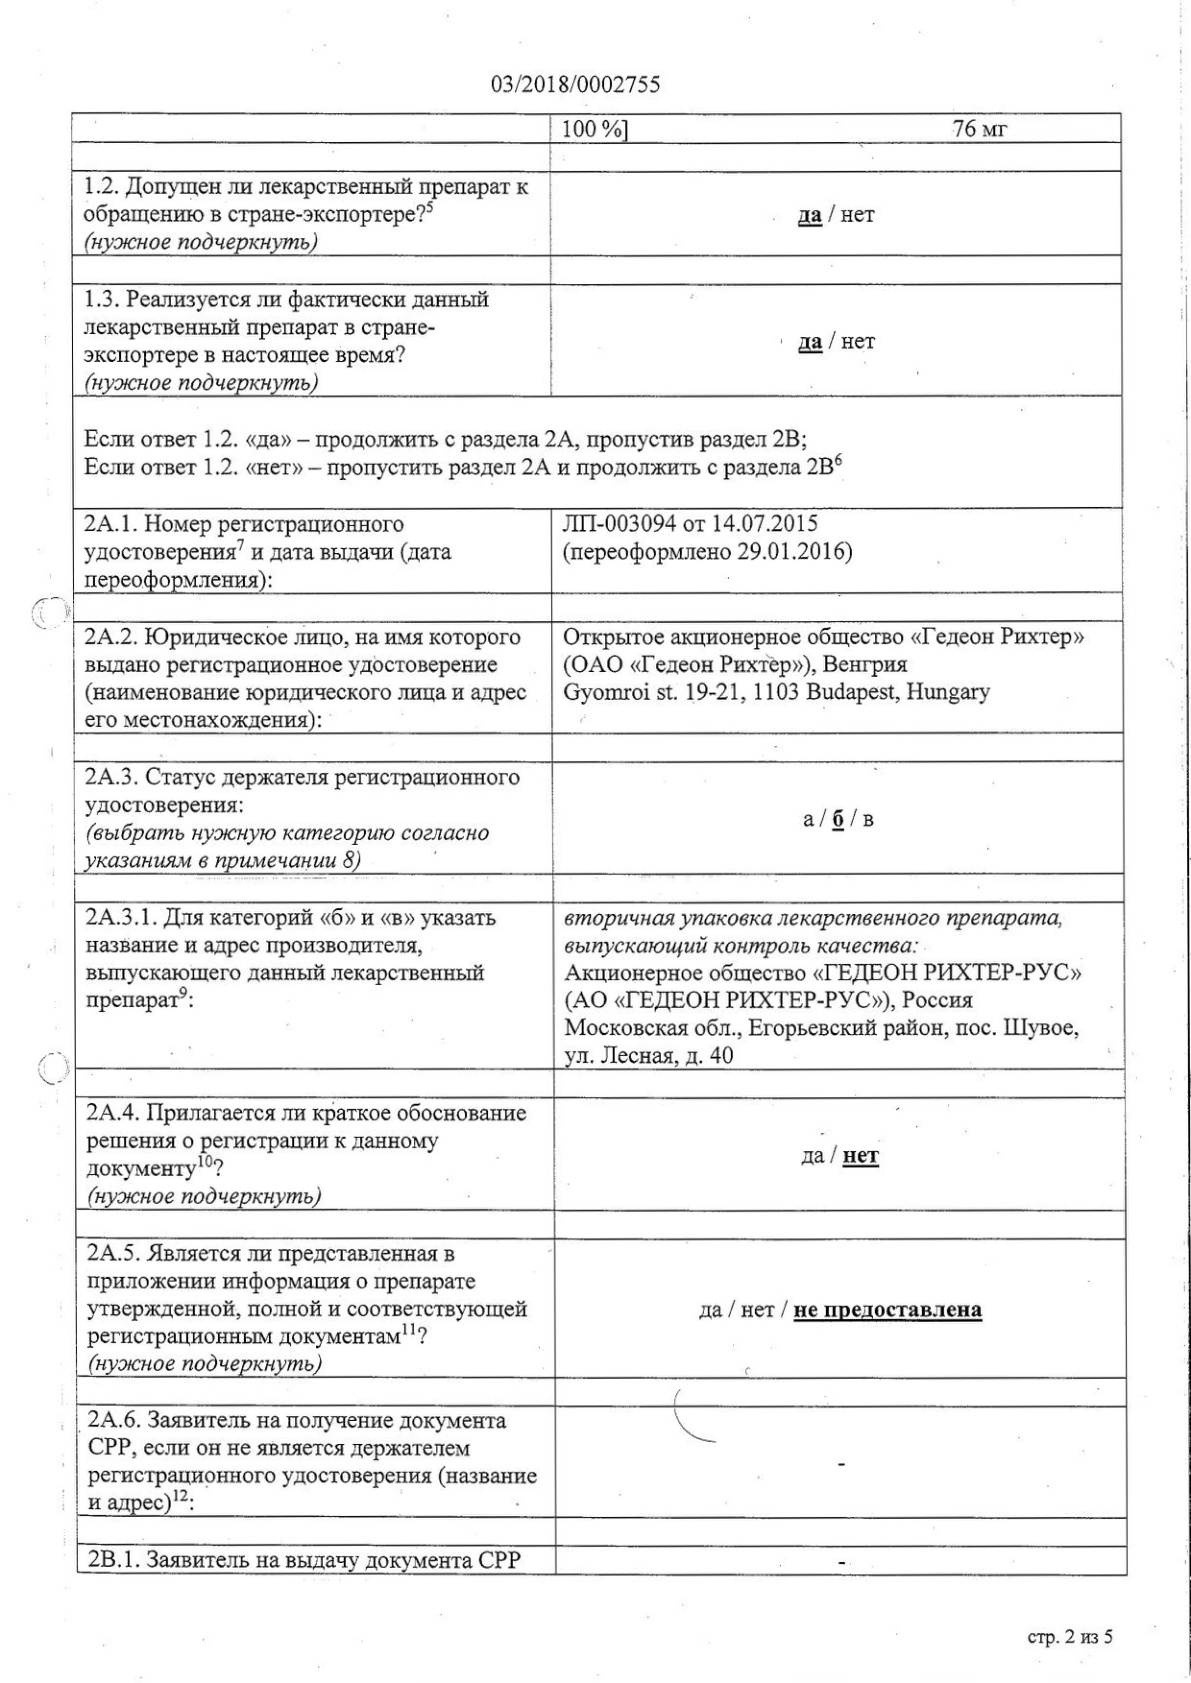full_lined: (71, 111, 1128, 1579)
